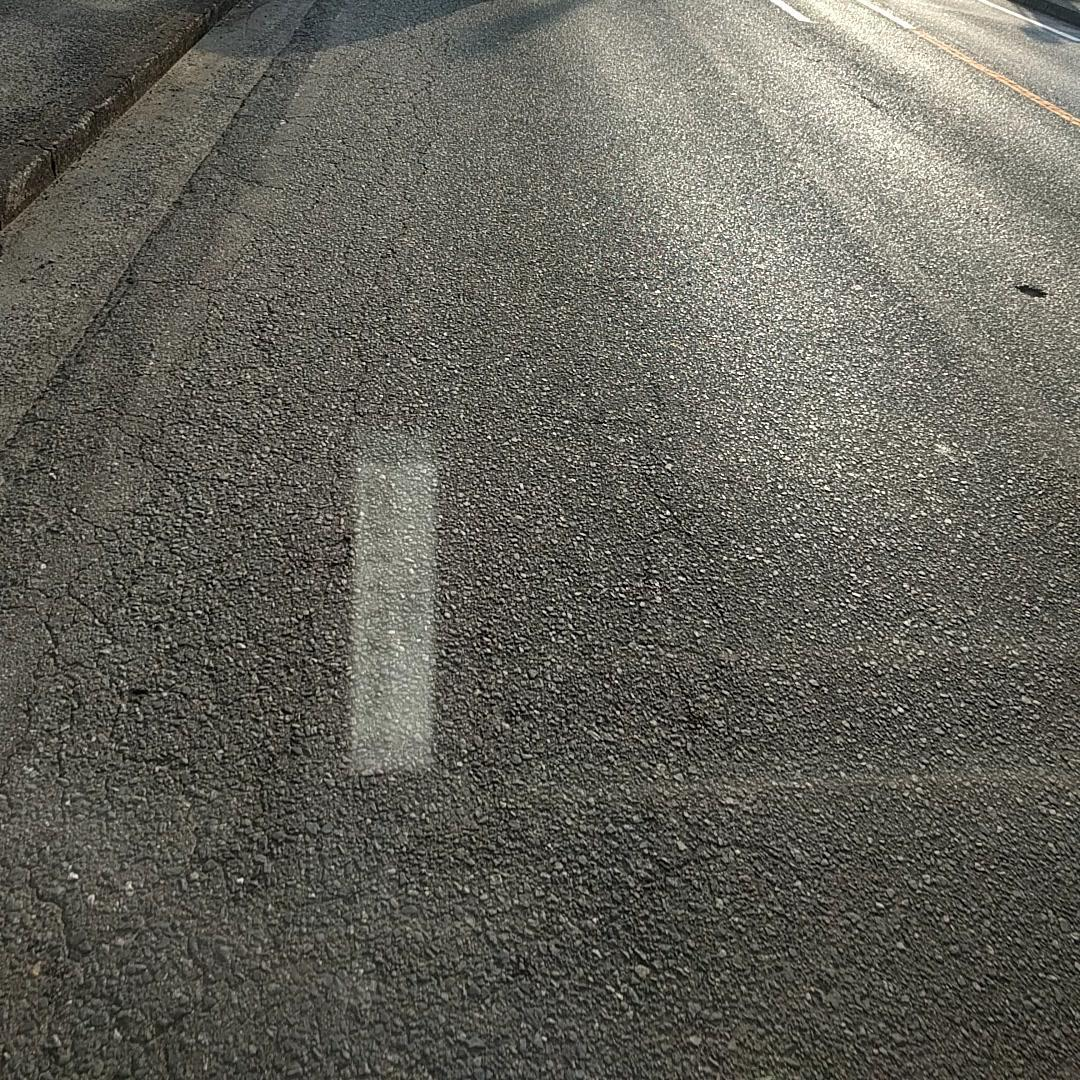D20: (1, 132, 443, 1017)
